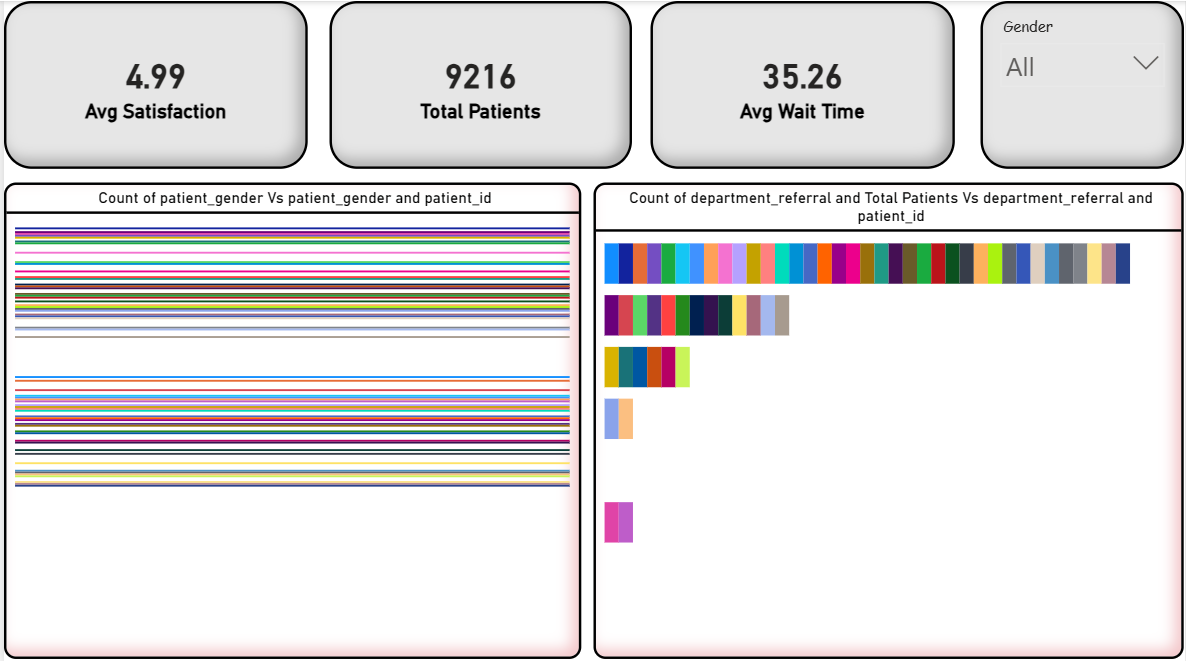

The page's visual inventory and layout, read from the dashboard file:
{"tool":"powerbi","page":{"name":"Page 4","canvas":[1280,720],"ordinal":4},"visuals":[{"type":"card","fields":{"Values":["Sheet1.Total Patients"]},"box":[352.4,0,328.1,182.3],"z":0},{"type":"card","fields":{"Values":["Sheet1.Avg Satisfaction"]},"box":[0,0,329.6,182.2],"z":1000},{"type":"card","fields":{"Values":["Sheet1.Avg Wait Time"]},"box":[700.8,0,330.1,182.3],"z":2000},{"type":"slicer","fields":{"Values":["Sheet1.patient_gender"]},"box":[1059.2,0,220.8,182.3],"z":3000},{"type":"clusteredBarChart","title":"Count of patient_gender Vs patient_gender and patient_id","fields":{"Category":["Sheet1.patient_gender"],"Y":["CountNonNull(Sheet1.patient_gender)"],"Series":["Sheet1.patient_id"]},"box":[0,196.5,625.8,516.5],"z":4000},{"type":"barChart","title":"Count of department_referral and Total Patients Vs department_referral and patient_id","fields":{"Series":["Sheet1.patient_id"],"Y":["CountNonNull(Sheet1.department_referral)"],"Category":["Sheet1.department_referral"]},"box":[640,196.5,640,516.5],"z":5000}]}

Visuals, with their boxes in screenshot pixels (x1, y1, x2, y2), scaled from the page's 1280x720 canvas onto the 1186x661 screenshot:
card - Sheet1.Total Patients: bbox(327, 0, 631, 167)
card - Sheet1.Avg Satisfaction: bbox(0, 0, 305, 167)
card - Sheet1.Avg Wait Time: bbox(649, 0, 955, 167)
slicer - Sheet1.patient_gender: bbox(981, 0, 1185, 167)
"Count of patient_gender Vs patient_gender and patient_id" clusteredBarChart: bbox(0, 180, 580, 655)
"Count of department_referral and Total Patients Vs department_referral and patient_id" barChart: bbox(593, 180, 1185, 655)
